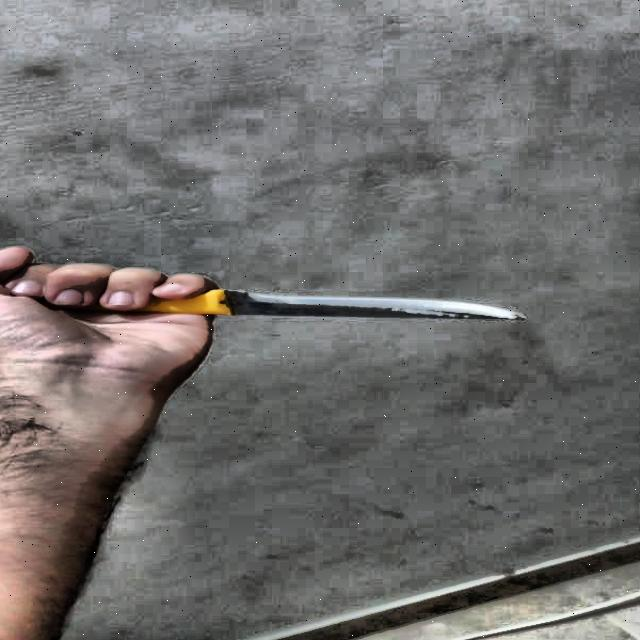knife: (91, 291, 526, 325)
